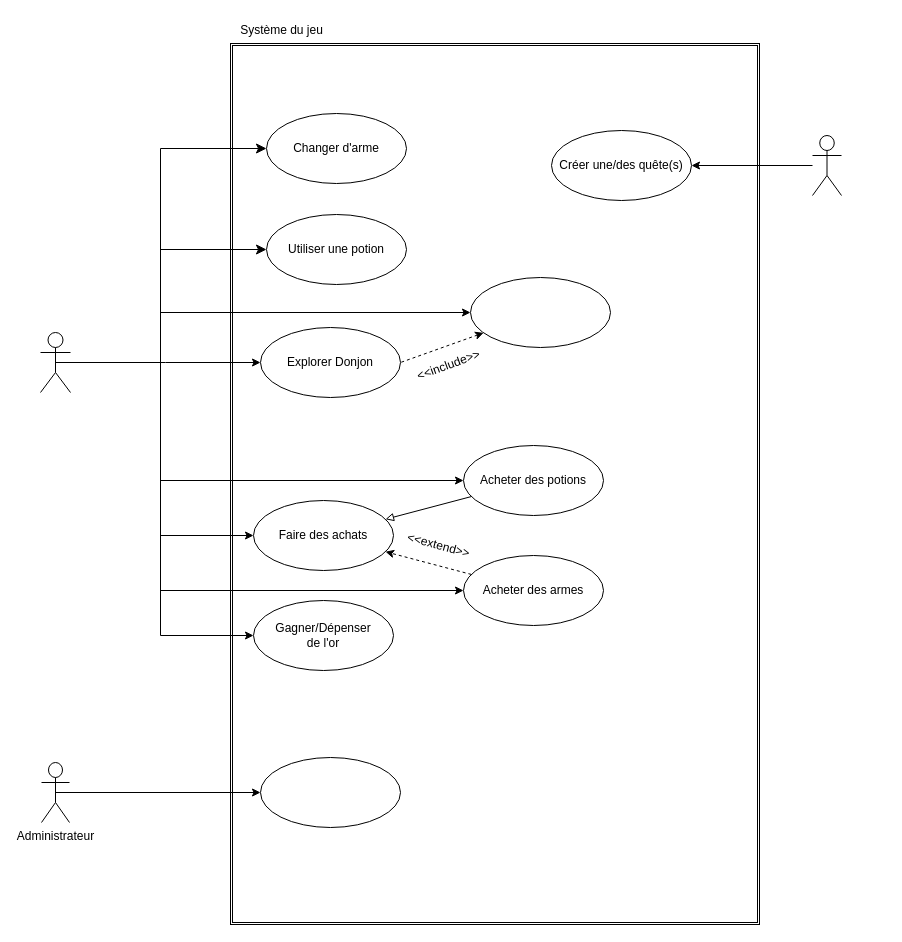
The diagram is 902 pixels wide and 942 high, and some of its shapes have lost their labels. The centre of each missing label's shape, as x and y in pixels:
"Combattant" belongs at pixel 55 362.
"Combattre un monstre" belongs at pixel 540 312.
"Gérer utilisateur" belongs at pixel 330 792.
"Tâches automatiques" belongs at pixel 827 165.
